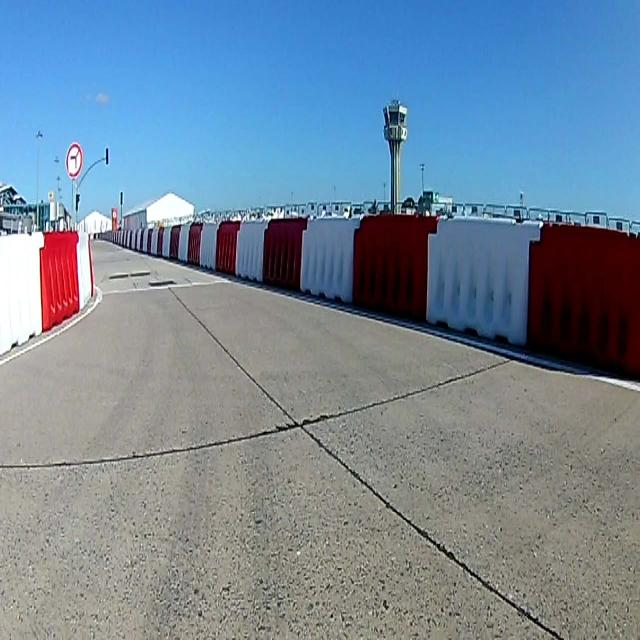soladonulmez: (64, 140, 82, 182)
